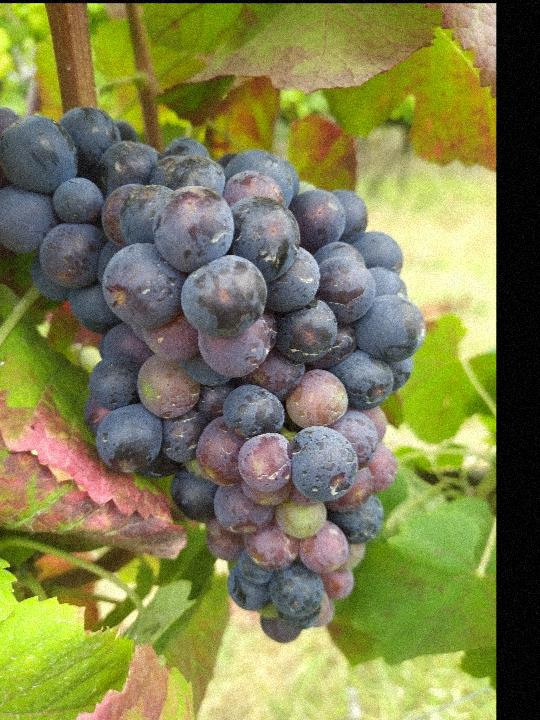grape: (0, 98, 428, 647)
